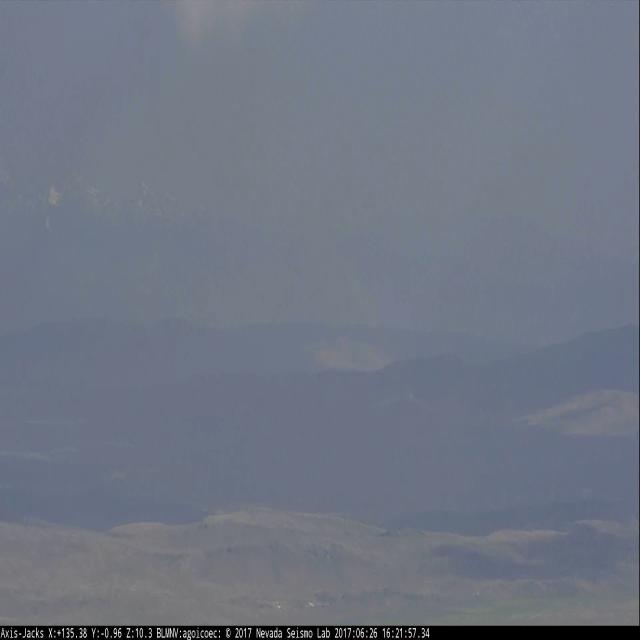smoke: (180, 252, 388, 325)
